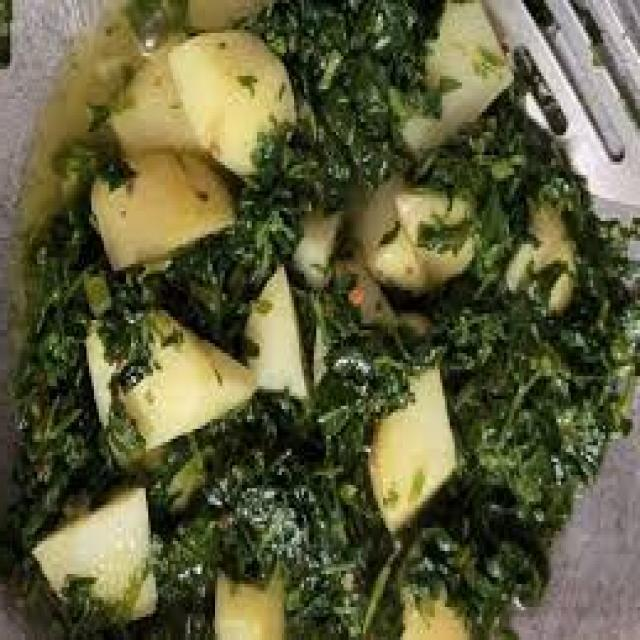Aloo Methi: (0, 0, 627, 640)
